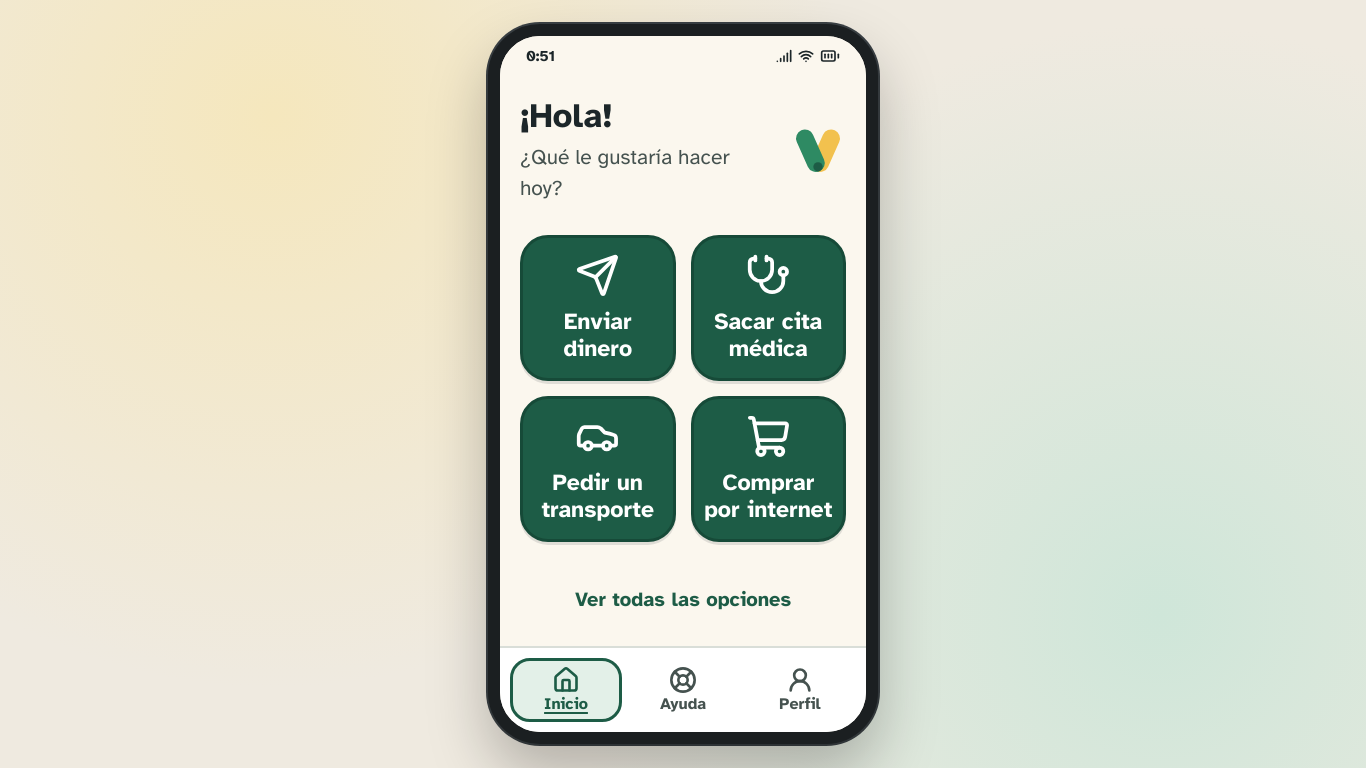
it: pantalla 8: inicio simplificado › "Ver todas las opciones" muestra el menú completo sin cambiar el ajuste
Click the button "Ver todas las opciones" at (683, 600), box [520,572,846,628]
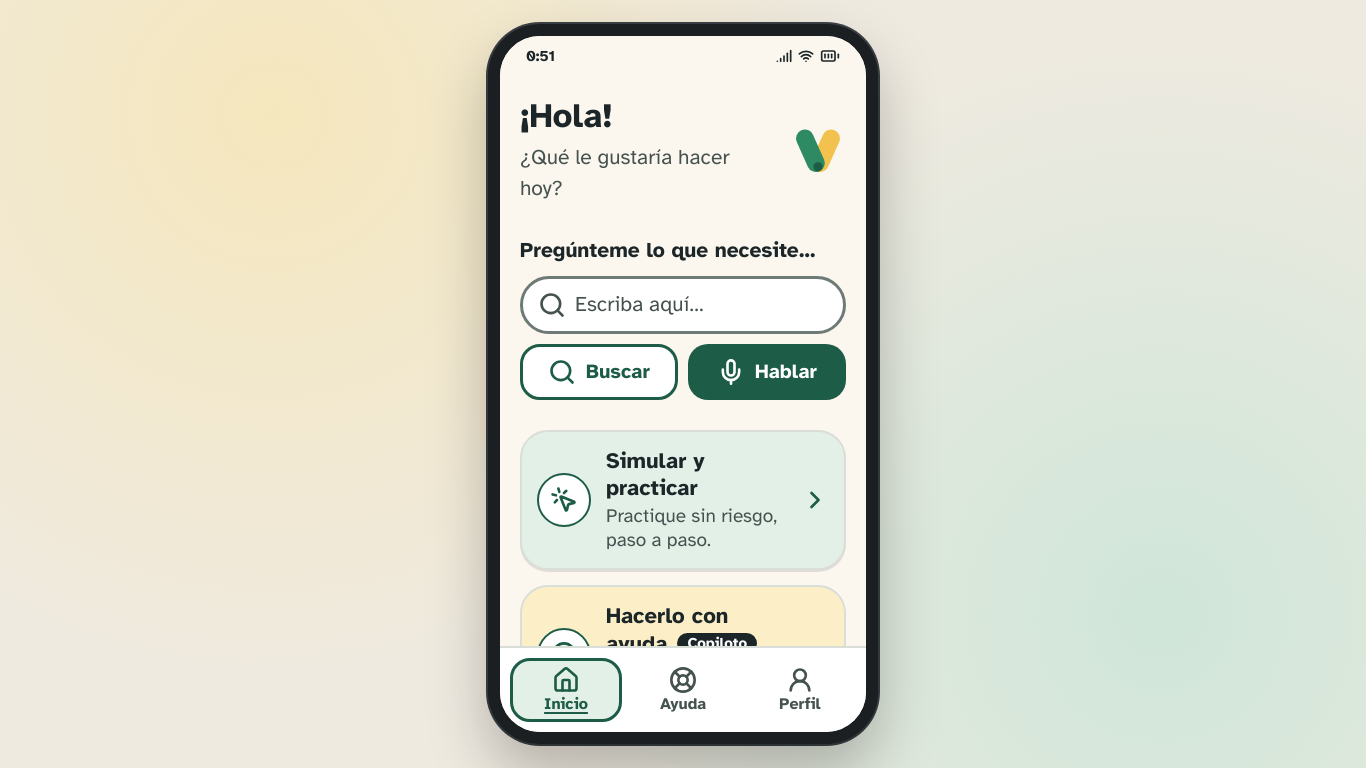
Now the form is shown, box [520,235,846,400]
